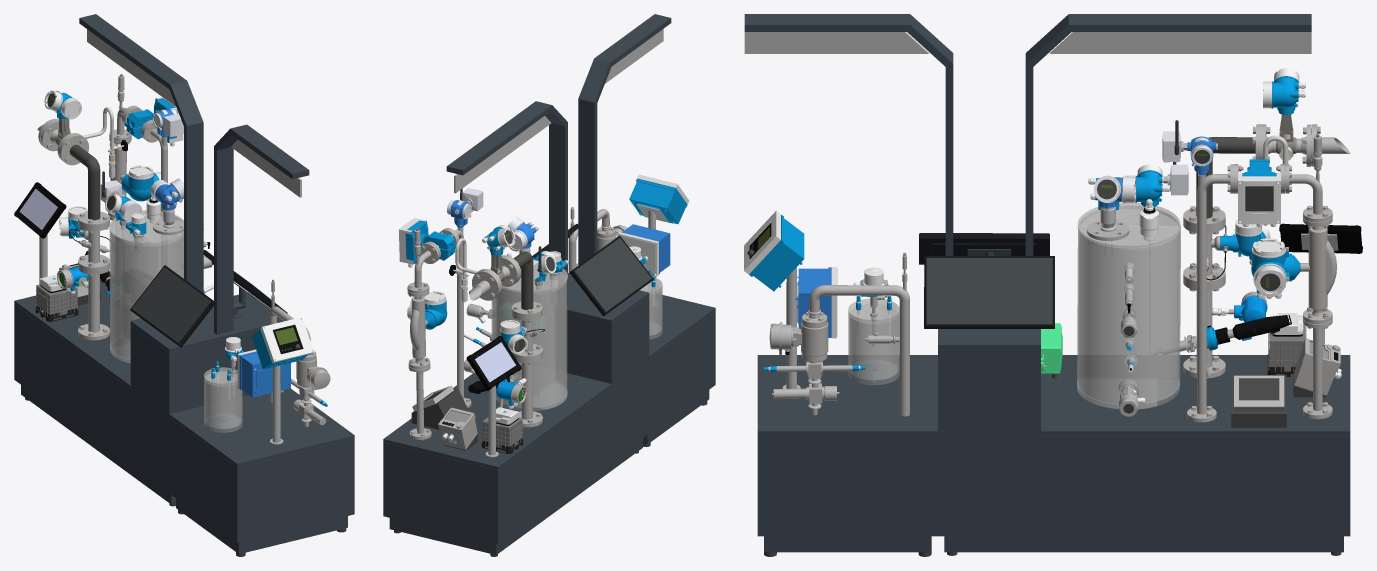
The model's file is model_detailed.gltf.
The picture shows the model from 3 angles, left to right: view 1: azimuth 30°, elevation 25°; view 2: azimuth 150°, elevation 25°; view 3: azimuth 270°, elevation 25°; orthographic projection. The views are drawn at different scales.
Parts seen in each view (by area): view 1: Korpus, Sockel_klein, Korpus_Lampe, Plexibehaelter_400er, Korpus_Lampe_600, Bildschrim_22Zoll_2, Plexibehaelter_Fermenter_1, CM44P_1, Prowirl7F2C50, tmass150, FieldXpert_1, unnamed8 (+16 smaller); view 2: Korpus, Sockel_klein, Korpus_Lampe_600, Plexibehaelter_400er, Korpus_Lampe, Bildschrim_22Zoll_2, Prowirl7F2C50, Promass8F3B25, CM44P_1, FieldXpert_1, unnamed8, Promag5W4C25 (+20 smaller); view 3: Korpus, Sockel_klein, Plexibehaelter_400er, Bildschrim_22Zoll_1, Korpus_Lampe, Korpus_Lampe_600, Schild, Promass8F3B25, Schild_kurz, Plexibehaelter_Fermenter_1, CM44P_1, Prowirl7F2C50 (+23 smaller).
Boxes of the visible parts, <box> form: Korpus: <box>14,280,283,506</box>; Sockel_klein: <box>169,388,354,556</box>; Korpus_Lampe: <box>79,14,203,292</box>; Plexibehaelter_400er: <box>109,212,183,363</box>; Korpus_Lampe_600: <box>214,124,309,334</box>; Bildschrim_22Zoll_2: <box>130,265,215,347</box>; Plexibehaelter_Fermenter_1: <box>204,367,242,432</box>; CM44P_1: <box>251,317,313,369</box>; Prowirl7F2C50: <box>41,90,127,178</box>; tmass150: <box>57,265,109,340</box>; FieldXpert_1: <box>14,182,66,238</box>; unnamed8: <box>237,349,290,397</box>; Korpus: <box>383,273,649,556</box>; Sockel_klein: <box>643,295,715,446</box>; Korpus_Lampe_600: <box>578,14,671,265</box>; Plexibehaelter_400er: <box>490,270,567,410</box>; Korpus_Lampe: <box>446,101,567,304</box>; Bildschrim_22Zoll_2: <box>569,235,653,316</box>; Prowirl7F2C50: <box>449,225,519,302</box>; Promass8F3B25: <box>407,290,447,369</box>; CM44P_1: <box>629,174,689,224</box>; FieldXpert_1: <box>466,336,521,390</box>; unnamed8: <box>618,224,670,276</box>; Promag5W4C25: <box>398,218,457,267</box>; Korpus: <box>938,329,1350,555</box>; Sockel_klein: <box>757,355,937,556</box>; Plexibehaelter_400er: <box>1077,205,1187,409</box>; Bildschrim_22Zoll_1: <box>924,256,1054,328</box>; Korpus_Lampe: <box>1025,14,1311,255</box>; Korpus_Lampe_600: <box>744,14,953,255</box>; Schild: <box>1050,32,1311,53</box>; Promass8F3B25: <box>1251,217,1336,324</box>; Schild_kurz: <box>744,32,928,53</box>; Plexibehaelter_Fermenter_1: <box>848,298,899,385</box>; CM44P_1: <box>744,210,804,291</box>; Prowirl7F2C50: <box>1261,68,1311,225</box>.
Size of the model in its own units: 0.7642 by 2.15 by 2.4.
